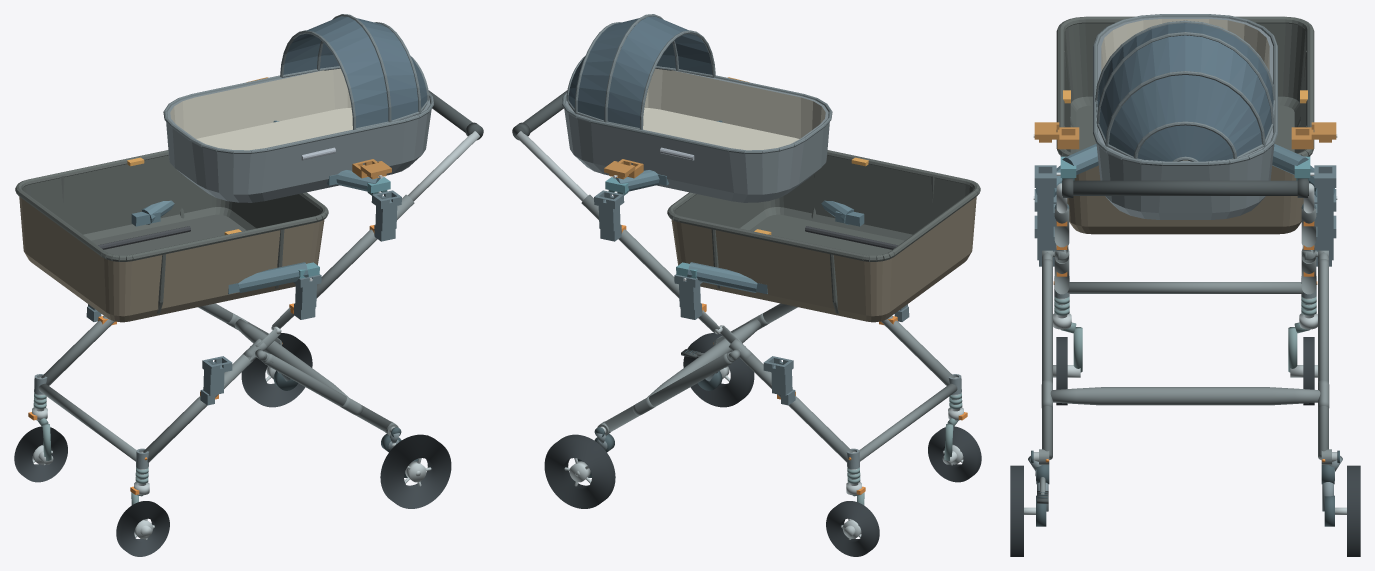
File: D18_w650_state1_wheel_S.glb
3 renders of one model, left to right at view 1: azimuth 30°, elevation 25°; view 2: azimuth 150°, elevation 25°; view 3: azimuth 270°, elevation 25°, orthographic. The views are drawn at different scales.
Visible parts, largest first — view 1: D18_Lower, D18_Upper, RL_tire.008, D18_Lower_Mount_M, RR_tire.008, FL_tire.008, FR_tire.008, V46_rear_leg_-1.009, main_lower_-1.009, front_fixed_round_tube.008, main_upper_-1.009, V46_rearbar.009 (+8 smaller); view 2: D18_Lower, D18_Upper, RR_tire.008, D18_Lower_Mount_M, FR_tire.008, RL_tire.008, FL_tire.008, V46_rear_leg_1.009, main_lower_1.009, front_fixed_round_tube.008, main_upper_1.009, V46_rearbar.009 (+8 smaller); view 3: D18_Upper, D18_Lower, V46_rearbar.009, round_handle.008, front_fixed_round_tube.008, V46_rear_leg_1.009, V46_rear_leg_-1.009, D18_Upper_Mount_H, RL_tire.008, RR_tire.008, Universal_Cabin_Receiver_H_1, Universal_Cabin_Receiver_H_-1 (+10 smaller).
Part boxes in pixels (box(x1,y1,x2,y2)): D18_Lower: box(15, 150, 328, 322); D18_Upper: box(163, 14, 433, 202); RL_tire.008: box(380, 434, 451, 508); D18_Lower_Mount_M: box(131, 200, 319, 294); RR_tire.008: box(241, 333, 312, 407); FL_tire.008: box(116, 501, 169, 556); FR_tire.008: box(14, 426, 67, 482); V46_rear_leg_-1.009: box(263, 353, 391, 431); main_lower_-1.009: box(143, 354, 255, 462); front_fixed_round_tube.008: box(38, 383, 136, 461); main_upper_-1.009: box(316, 194, 414, 298); V46_rearbar.009: box(234, 319, 348, 397); D18_Lower: box(667, 150, 980, 322); D18_Upper: box(562, 14, 832, 202); RR_tire.008: box(544, 434, 615, 508); D18_Lower_Mount_M: box(676, 200, 864, 294); FR_tire.008: box(826, 501, 879, 556); RL_tire.008: box(683, 333, 754, 407); FL_tire.008: box(928, 426, 981, 482); V46_rear_leg_1.009: box(604, 353, 732, 431); main_lower_1.009: box(740, 354, 852, 462); front_fixed_round_tube.008: box(859, 383, 957, 461); main_upper_1.009: box(581, 194, 679, 298); V46_rearbar.009: box(647, 319, 761, 397); D18_Upper: box(1093, 14, 1277, 219); D18_Lower: box(1056, 16, 1314, 234); V46_rearbar.009: box(1050, 387, 1320, 405); round_handle.008: box(1062, 180, 1308, 195); front_fixed_round_tube.008: box(1067, 282, 1303, 293); V46_rear_leg_1.009: box(1318, 259, 1328, 459); V46_rear_leg_-1.009: box(1042, 259, 1052, 459); D18_Upper_Mount_H: box(1056, 144, 1314, 180); RL_tire.008: box(1010, 465, 1023, 556); RR_tire.008: box(1347, 465, 1360, 556); Universal_Cabin_Receiver_H_1: box(1314, 165, 1336, 226); Universal_Cabin_Receiver_H_-1: box(1034, 165, 1056, 226).
Bounding box in the file's own units: 1.14 × 1.27 × 0.766.
